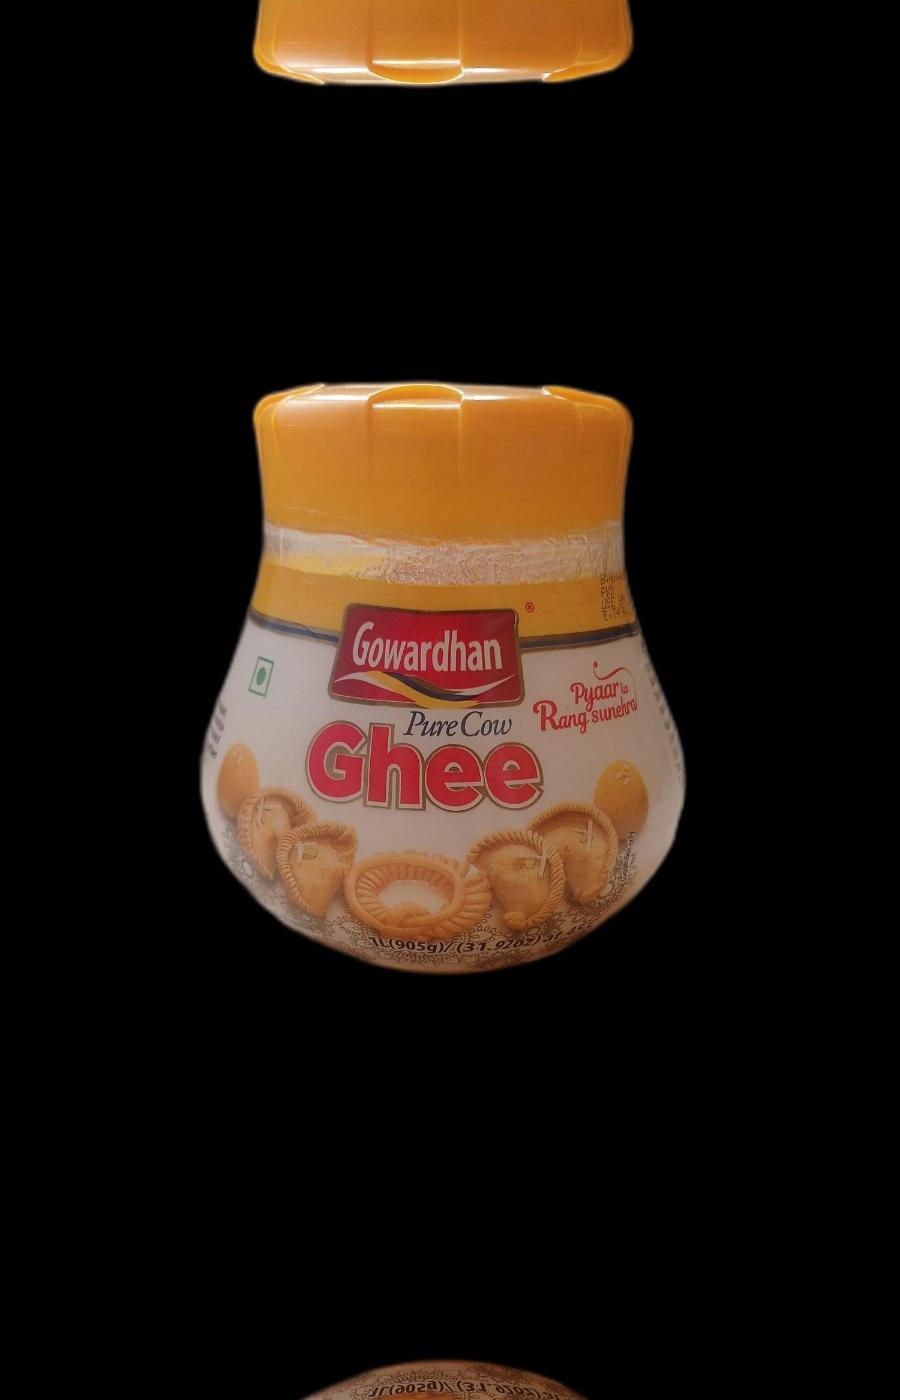Govardhan Pure cow Ghee -1kg-: (207, 361, 693, 979)
